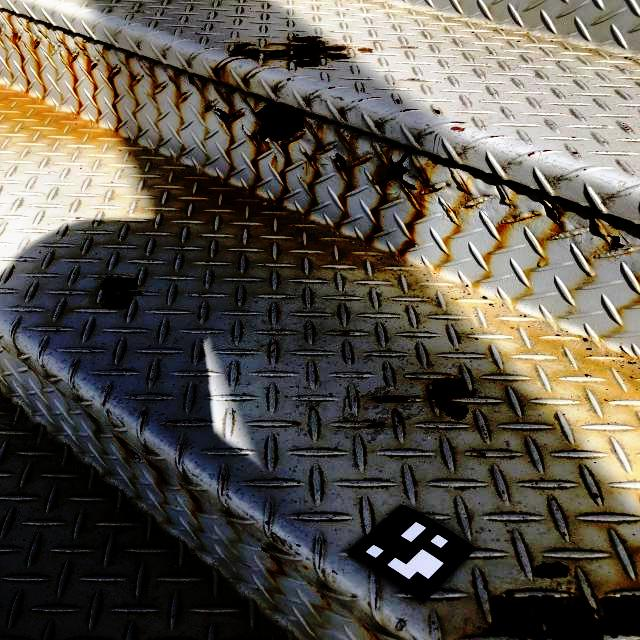Corrosion: (485, 593, 640, 640), (228, 36, 353, 68), (248, 99, 304, 152), (429, 379, 478, 420), (370, 152, 417, 191), (97, 278, 142, 310), (213, 108, 244, 132), (532, 561, 570, 578), (541, 200, 562, 228), (334, 153, 349, 182), (606, 235, 626, 250), (351, 422, 385, 429), (371, 395, 410, 401), (128, 449, 140, 460), (394, 408, 401, 424), (303, 152, 311, 163), (357, 48, 374, 53), (205, 105, 215, 110), (434, 109, 440, 115), (137, 458, 141, 463)
